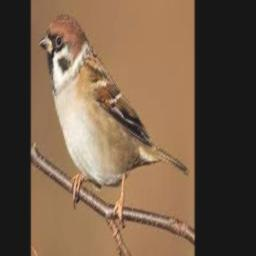Sparrow: (39, 14, 189, 228)
